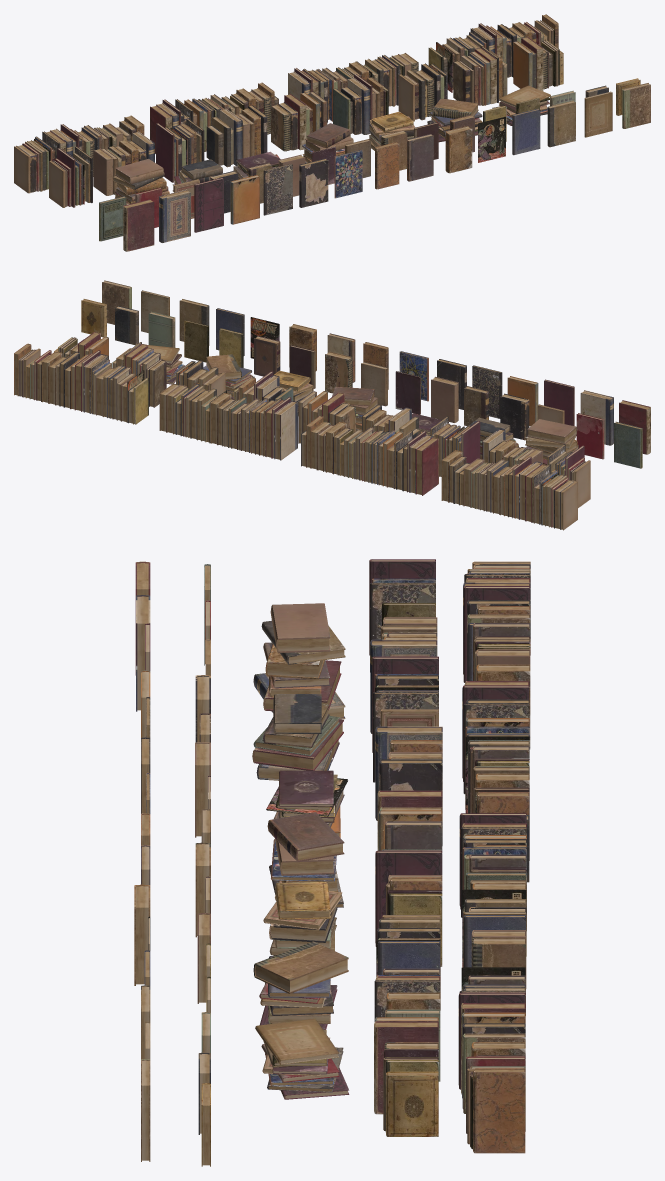
File: books.glb
3 views of the same model, one above another, from view 1: azimuth 30°, elevation 25°; view 2: azimuth 150°, elevation 25°; view 3: azimuth 270°, elevation 25° (orthographic). The views are drawn at different scales.
Visible parts, largest first — view 1: RPG_BookSet; view 2: RPG_BookSet; view 3: RPG_BookSet.
Boxes of the visible parts, x1,y1,x2,y2 form: RPG_BookSet: [14, 14, 650, 251]; RPG_BookSet: [14, 280, 650, 530]; RPG_BookSet: [134, 559, 530, 1166].
Size of the model in its own units: 0.3 by 0.025 by 0.0946.
1 material, 1 textured.
